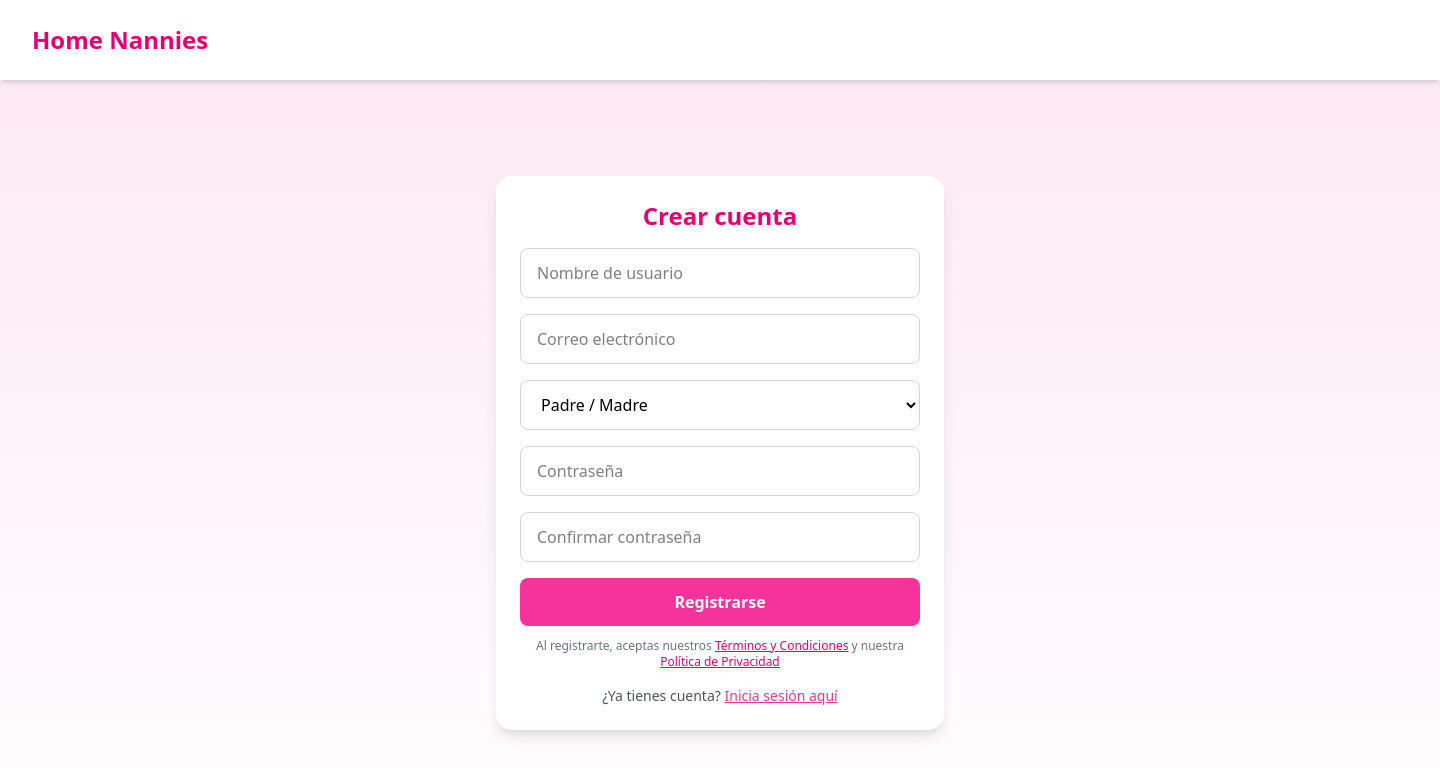
Test: Register Component › maneja error de usuario ya registrado
The width and height of the screenshot is (1440, 768).
Type "existinguser" into the field with placeholder "Nombre de usuario" at (720, 273), box [520,248,920,298]
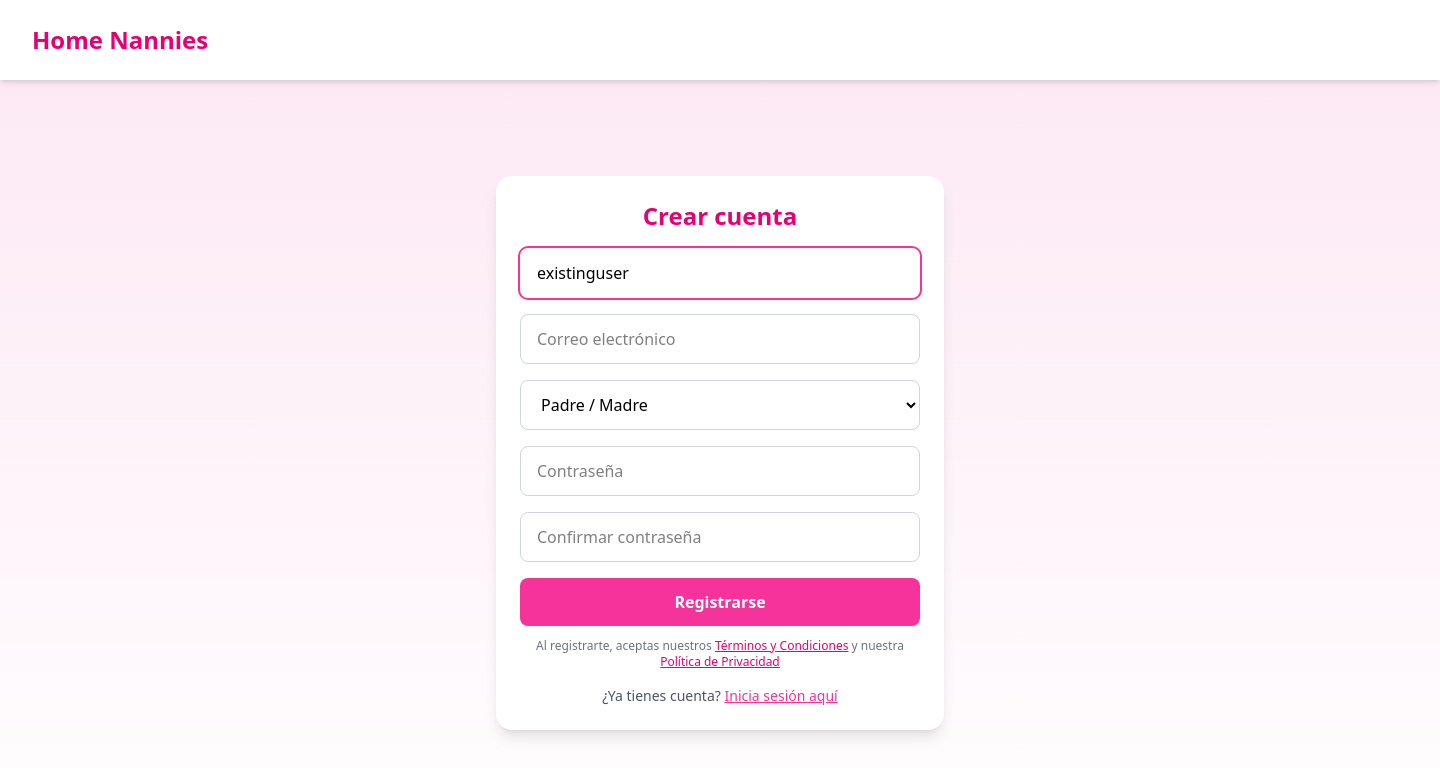
Type "test@example.com" into the field with placeholder "Correo electrónico" at (720, 339), box [520,314,920,364]
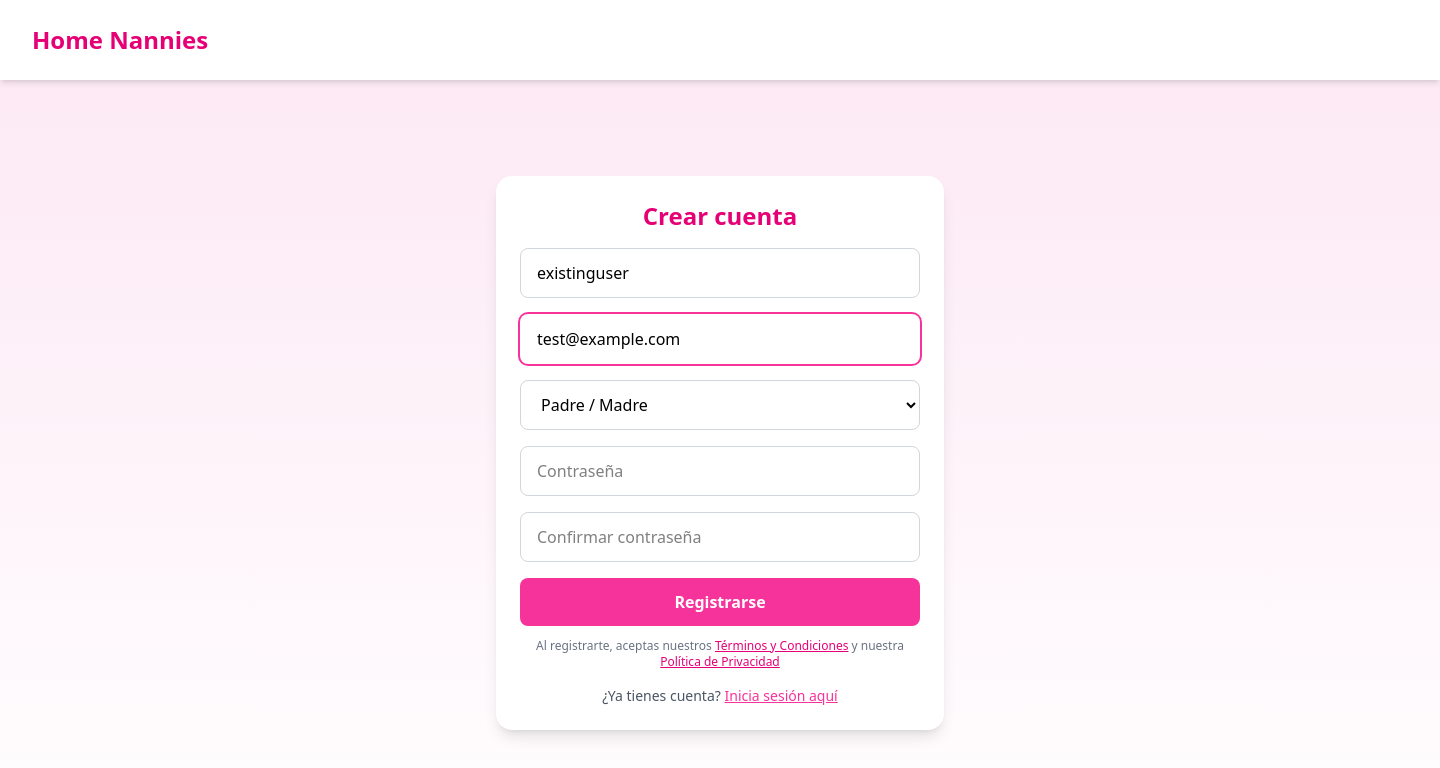
Type "Password123!" into the password field with placeholder "Contraseña" at (720, 471), box [520,446,920,496]
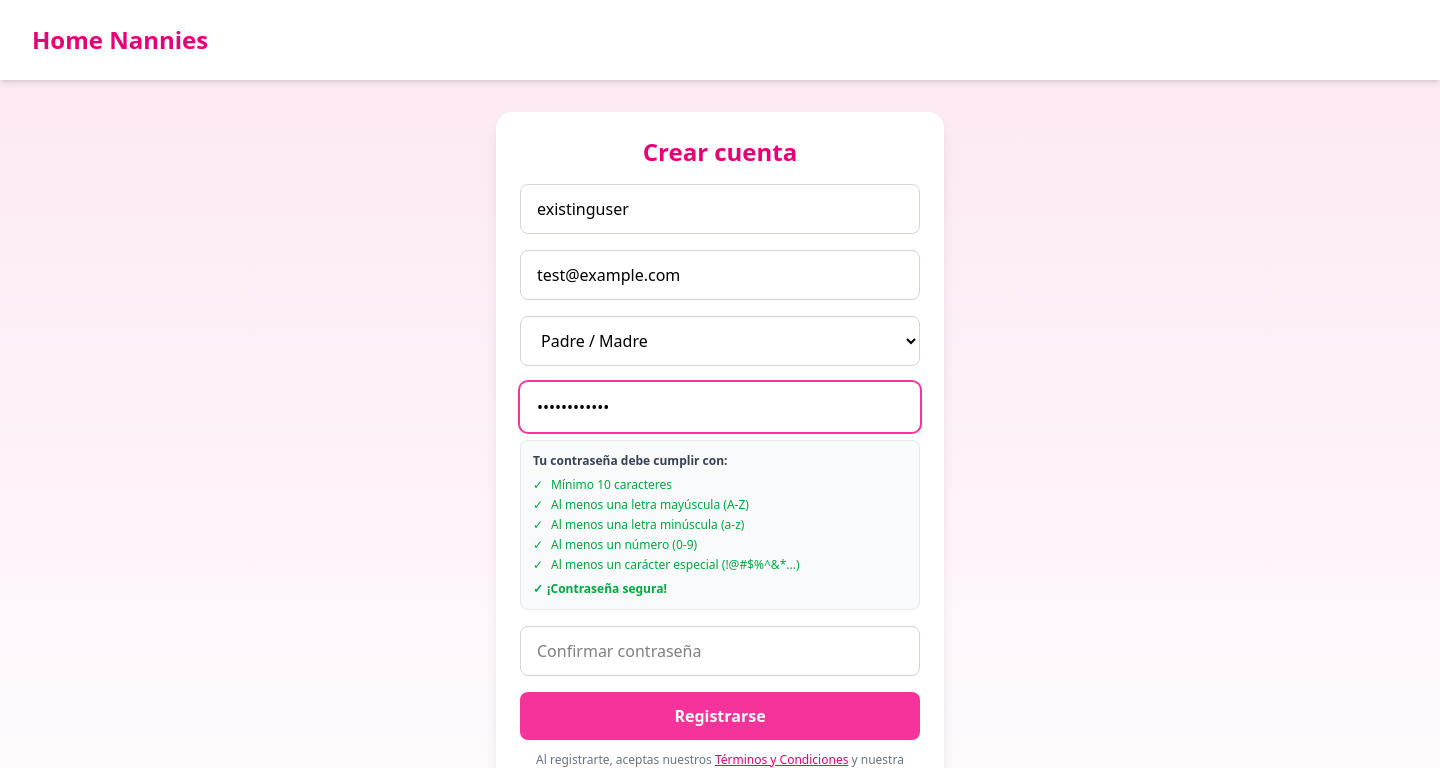
Type "Password123!" into the password field with placeholder "Confirmar contraseña" at (720, 651), box [520,626,920,676]
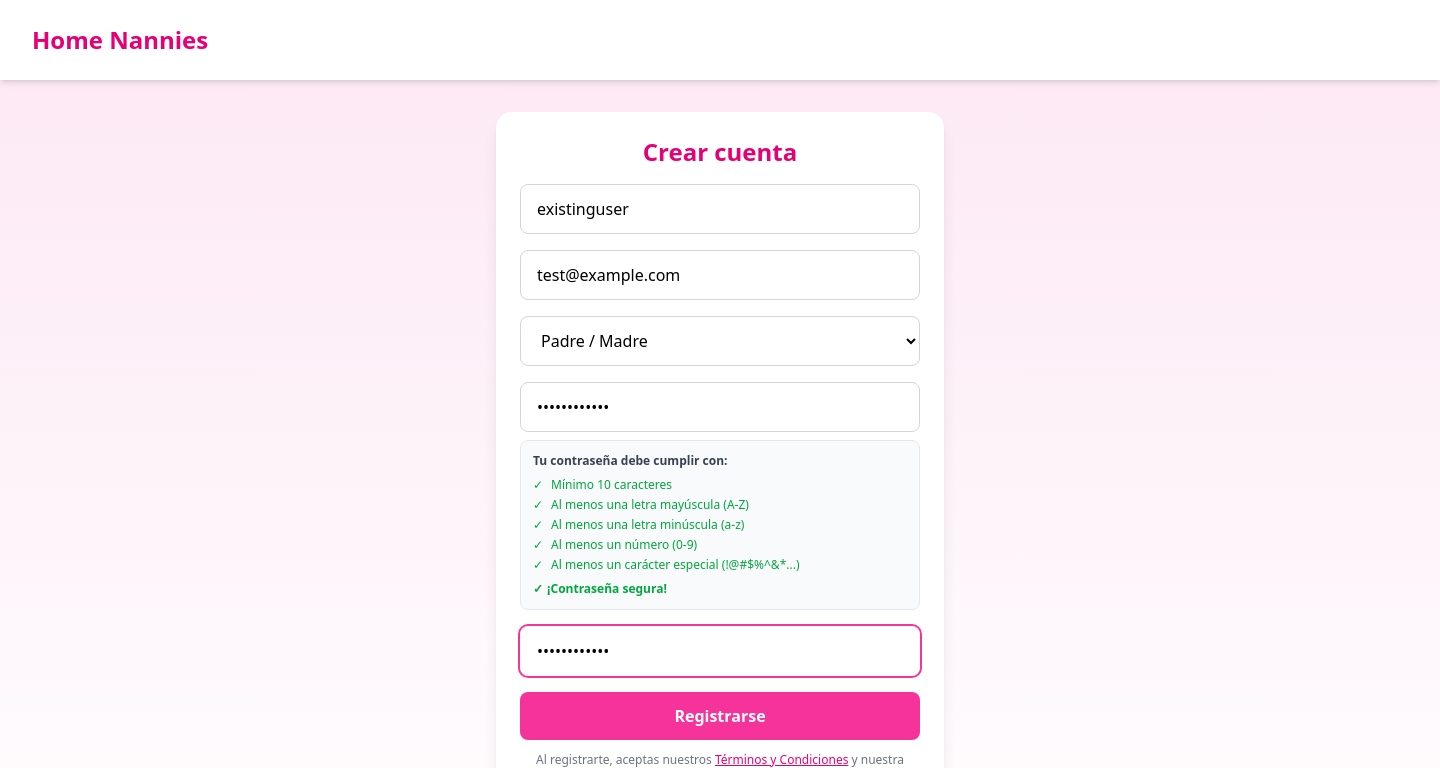
Select "Padre / Madre" in the dropdown at (720, 341), box [520,316,920,366]
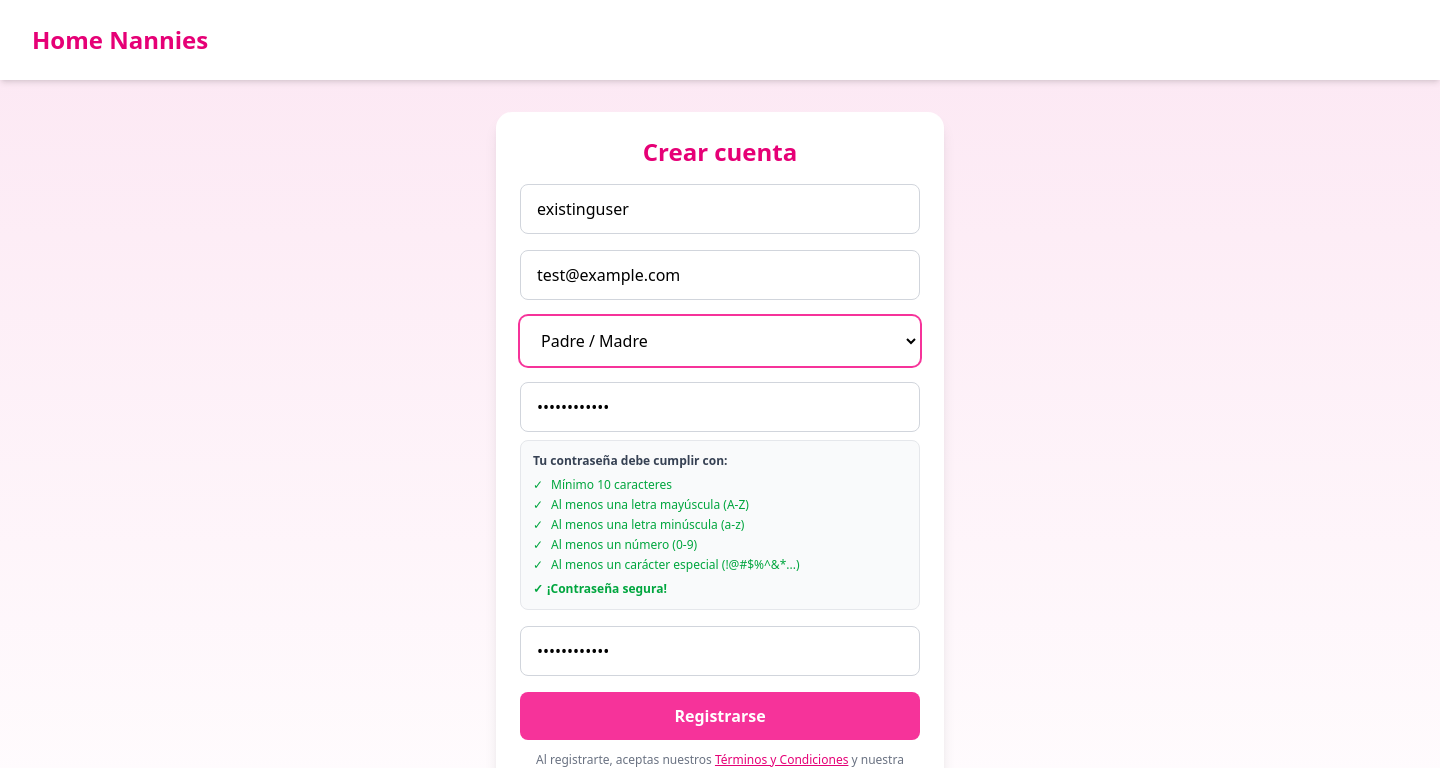
Click the button "Registrarse" at (720, 716), box [520,692,920,740]
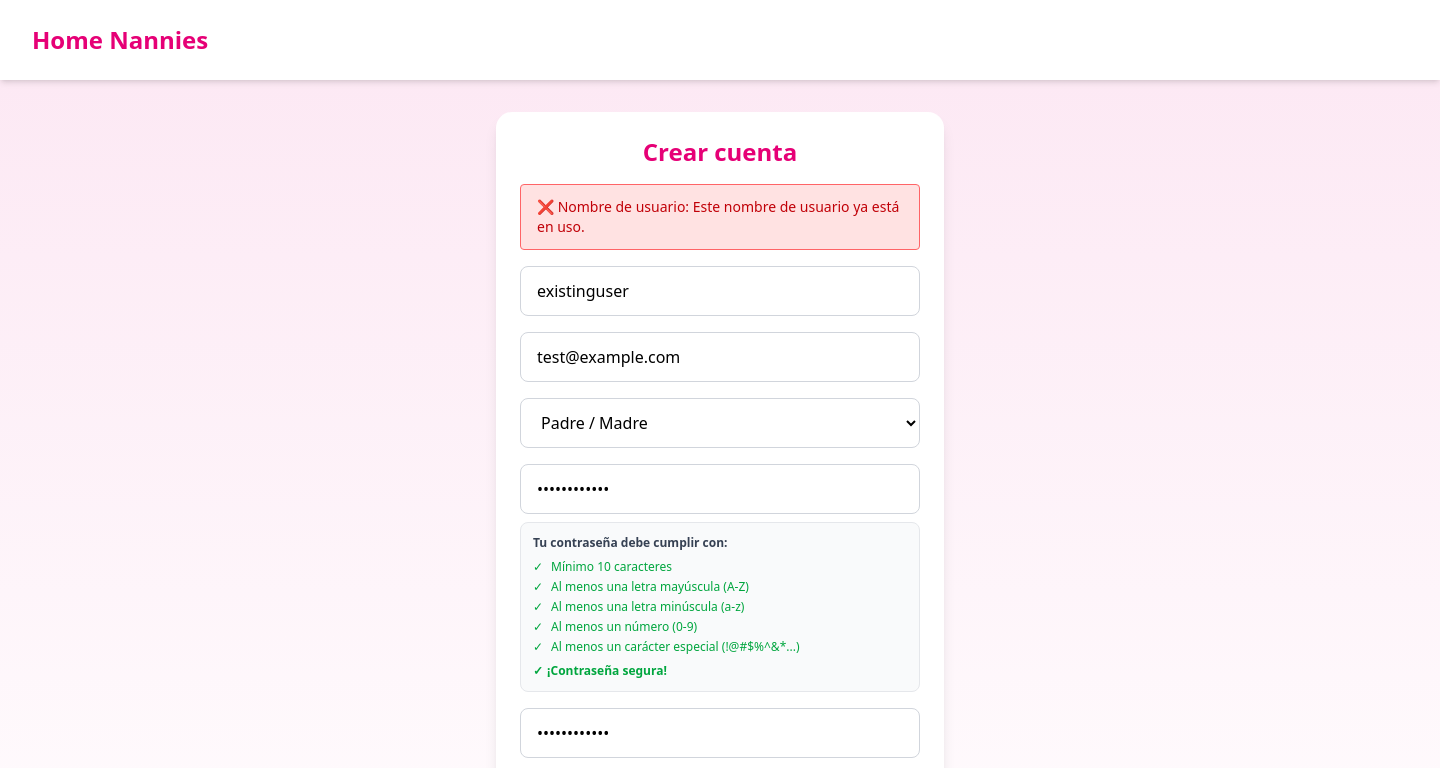
Now the text "❌ Nombre de usuario: Este nombre de usuario ya está en uso." is shown, box [520,184,920,250]
